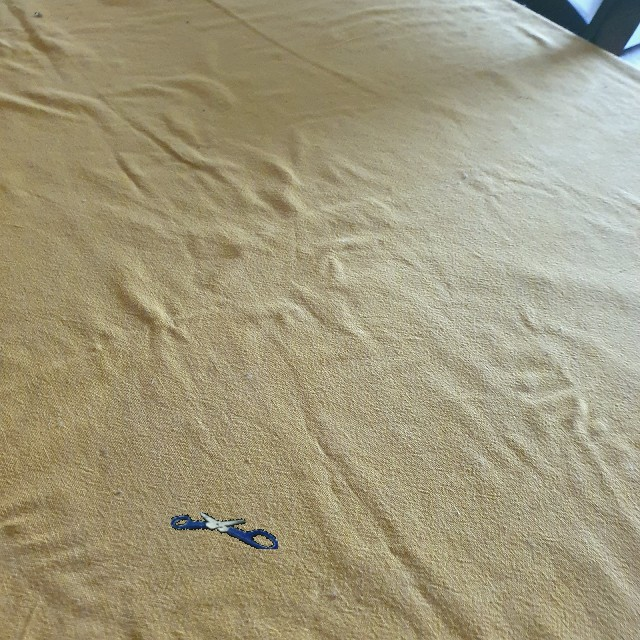scissors: (171, 511, 278, 549)
